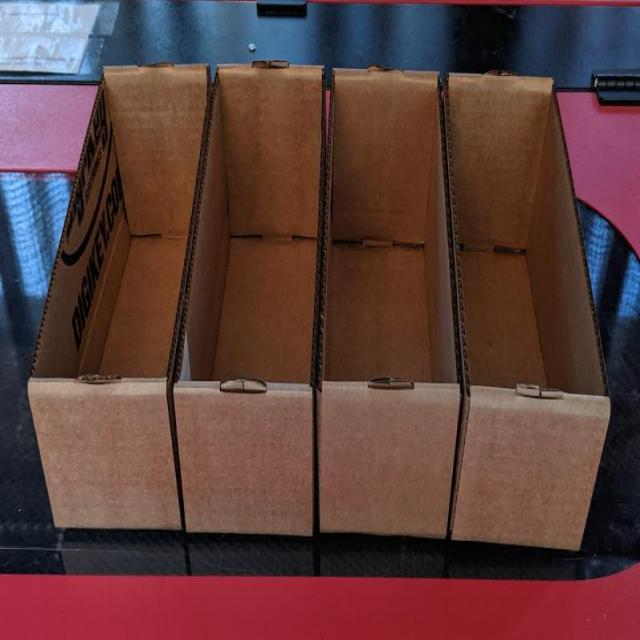cardboard: (27, 63, 210, 530), (447, 67, 610, 554), (174, 61, 328, 533), (316, 69, 462, 540)
